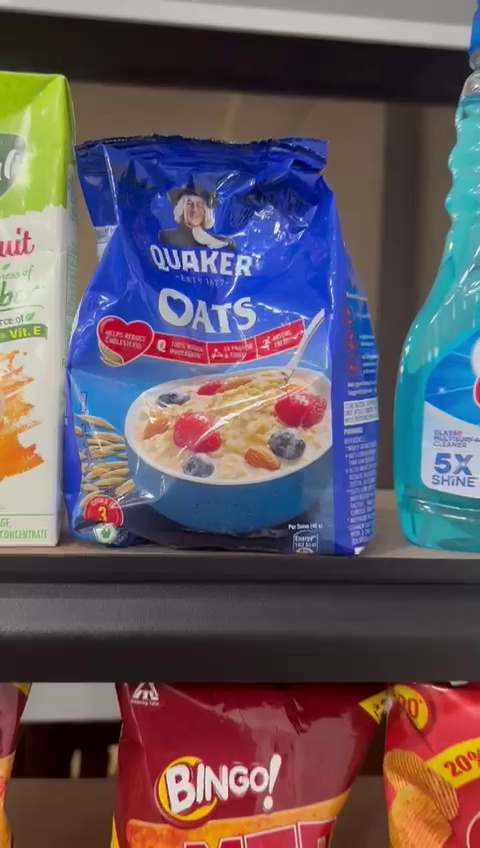Quaker Oats: (58, 131, 374, 558)
